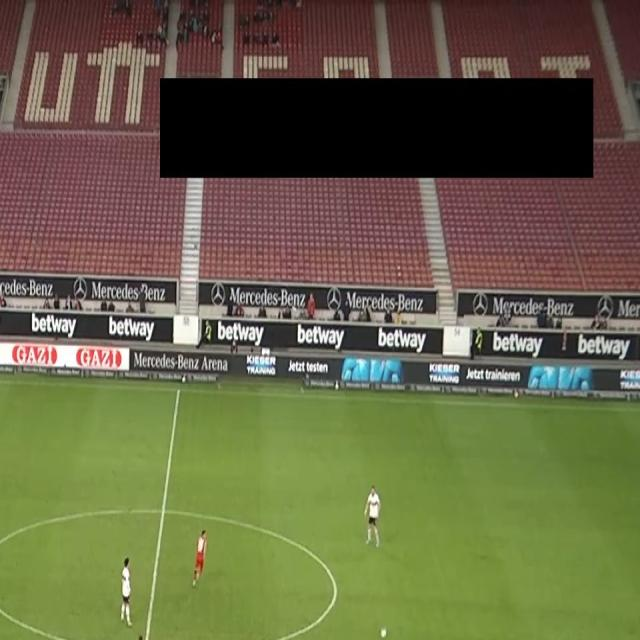ball: (380, 624, 388, 640)
